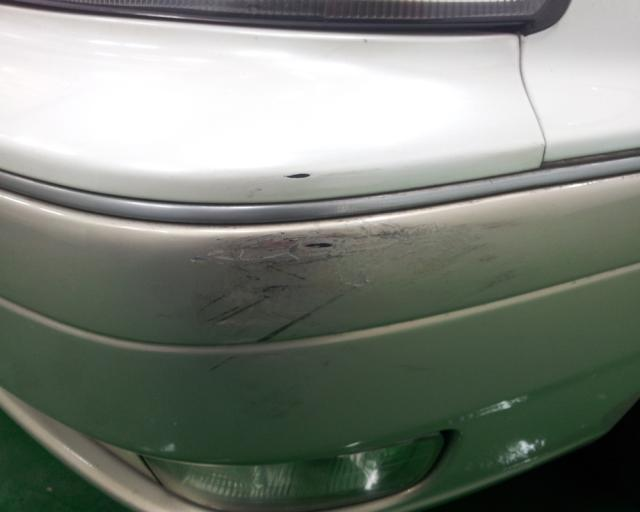scratch: (192, 164, 547, 369)
